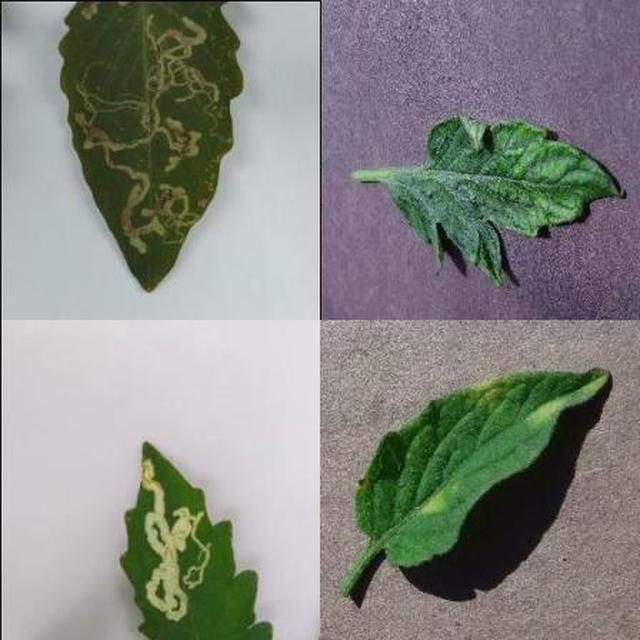Leaf Miner: (214, 212, 640, 640)
